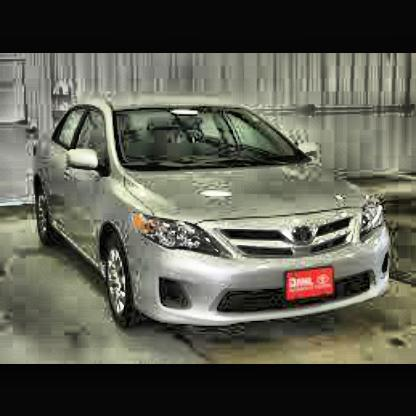Toyota Corolla Sedan 2012: (35, 98, 394, 332)
